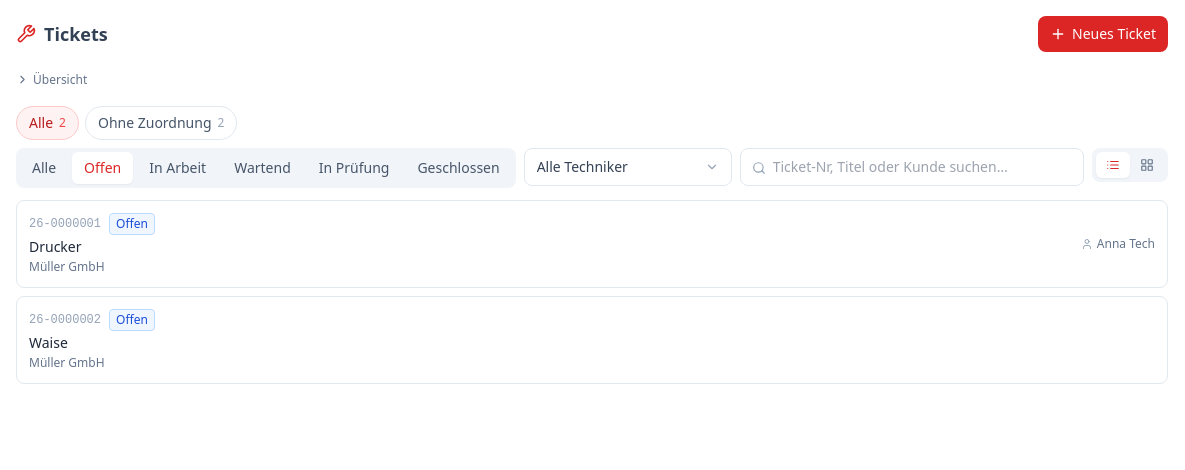
TicketsPage › shows the assignee on list rows and as an initials chip on board cards
Expected: the text "Drucker" is shown, [29,236,82,256]
Expected: the number of elements with test id "row-assignee" is 1, [1081,236,1155,252]
Note: Board view: compact initials chip with the full name as tooltip.
Click the button with test id "view-toggle-board" at (1147, 164), box [1130,152,1164,178]
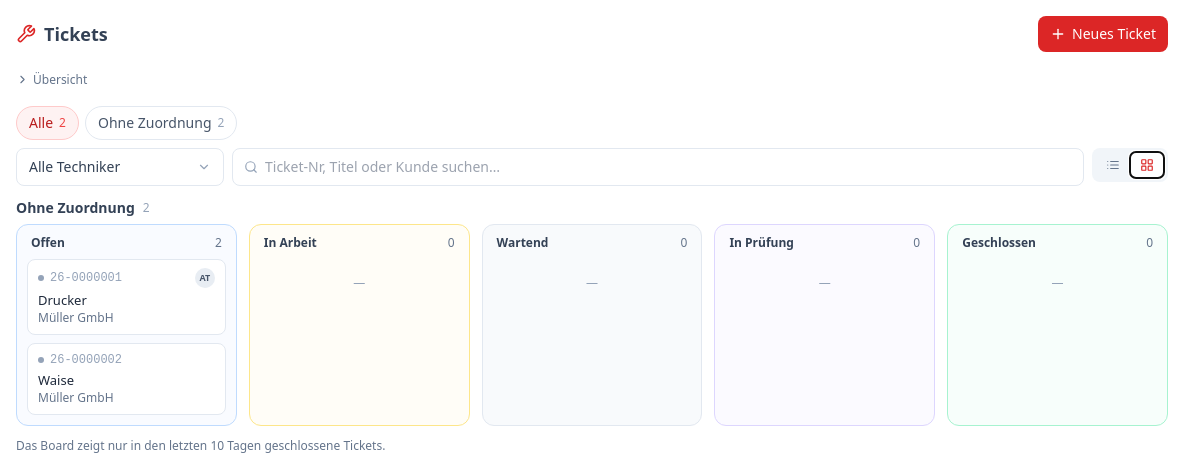
Expected: the element with test id "ticket-board" is shown, [16,198,1168,426]
Expected: the number of elements with test id "card-assignee" is 1, [195,268,215,288]
Expected: the text with test id "card-assignee" reads "AT", [199,270,210,284]
